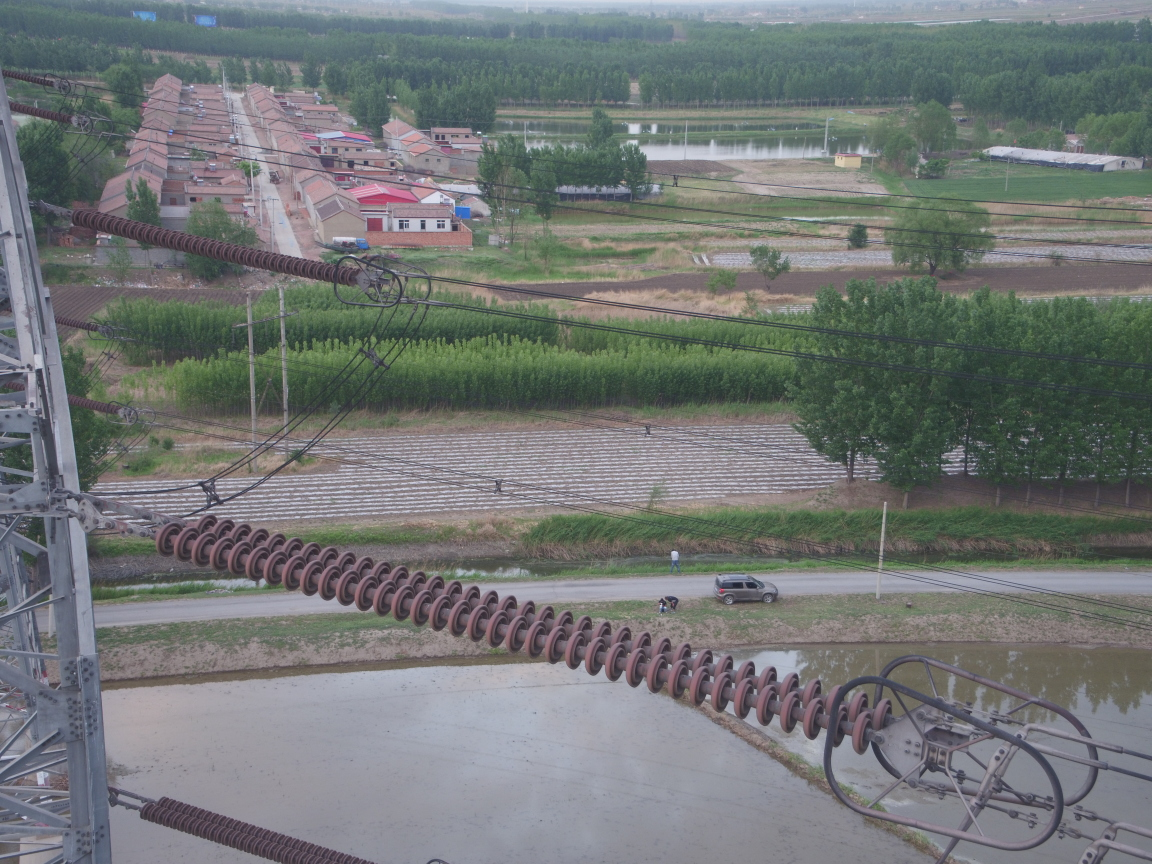insulator: (120, 510, 907, 758), (58, 205, 369, 288), (123, 791, 372, 863)
